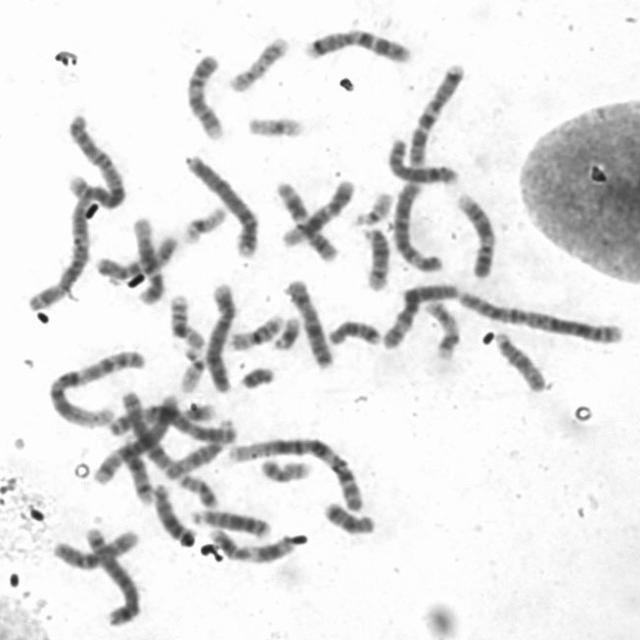A1: (224, 432, 368, 512), (45, 344, 148, 429)
A2: (453, 284, 628, 346), (58, 108, 127, 210)
A3: (22, 186, 96, 311), (105, 400, 238, 445)
B4: (181, 150, 262, 259), (202, 277, 238, 393)
B5: (89, 390, 182, 486), (79, 522, 144, 628)
C10: (91, 228, 181, 283), (48, 523, 144, 572)
C11: (269, 176, 340, 265), (202, 522, 298, 566)
C12: (278, 174, 358, 248), (128, 210, 168, 306)
C6: (379, 277, 462, 352), (389, 174, 446, 274)
C7: (403, 57, 468, 168), (299, 23, 415, 65)
C8: (384, 132, 462, 187), (122, 394, 172, 472)
C9: (181, 48, 227, 141), (451, 188, 498, 279)
D13: (148, 478, 198, 548), (188, 504, 275, 541)
D14: (116, 431, 158, 505), (358, 220, 393, 292)
D15: (490, 327, 550, 393), (162, 432, 231, 480)
E16: (223, 308, 287, 352), (164, 288, 207, 352)
E17: (224, 30, 292, 94), (421, 294, 463, 362)
E18: (319, 496, 379, 536), (323, 314, 383, 348)
F19: (177, 201, 229, 245), (242, 110, 307, 140)
F20: (174, 468, 221, 509), (255, 452, 314, 484)
G21: (268, 310, 304, 352), (179, 398, 218, 424)
G22: (348, 185, 396, 228), (175, 344, 209, 393)
X: (280, 274, 337, 371)
Y: (236, 360, 278, 391)
